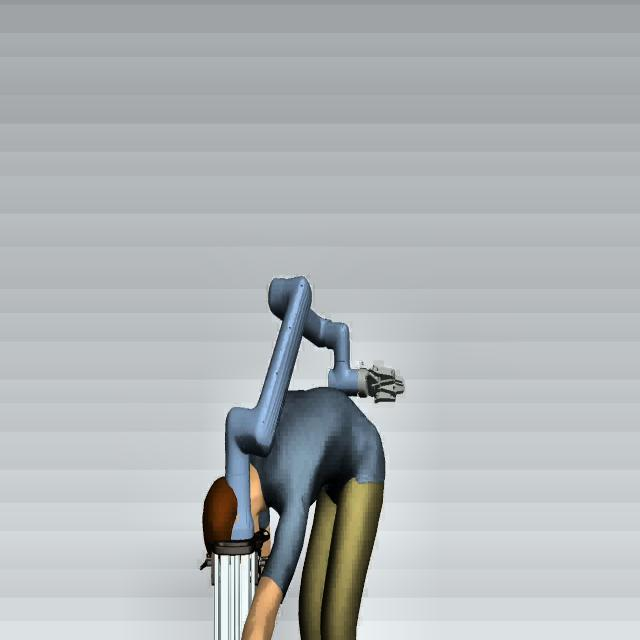robot: (215, 274, 405, 541)
